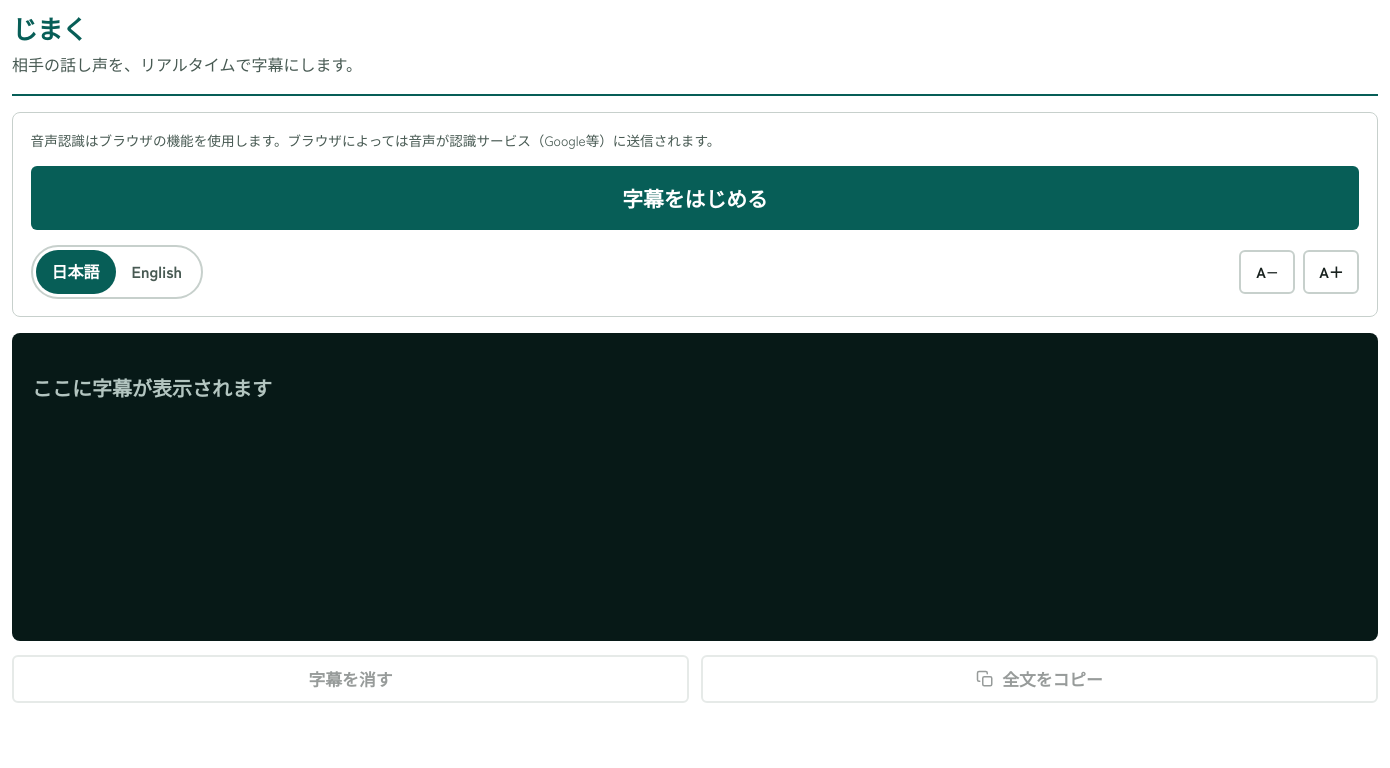
Test case: Captions › starts recognition with continuous interim results in Japanese
What coordinates should you click on to do the following:
click the button "字幕をはじめる"
I would click on:
 (695, 198)
Its box is [31,166,1359,230].
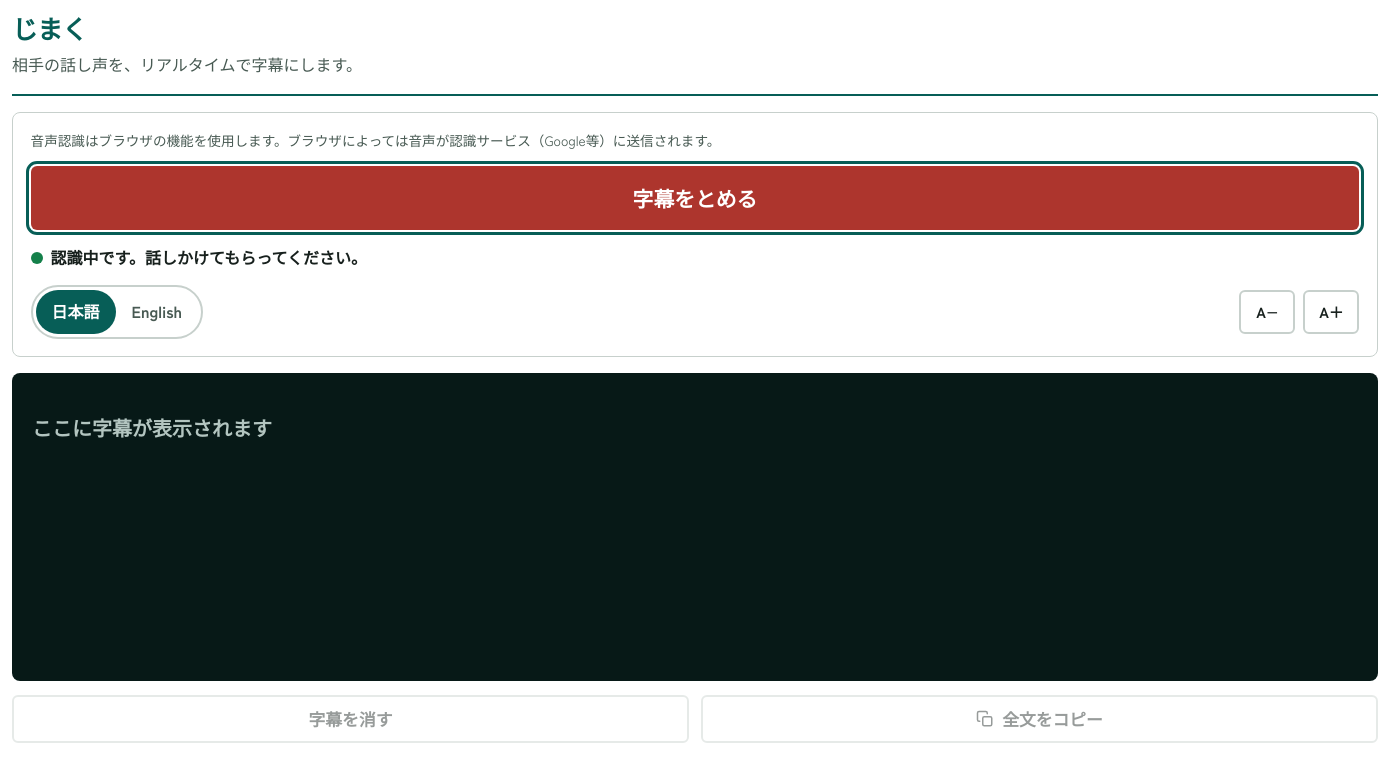
Check: the button "字幕をとめる" is shown, box [31,166,1359,230]
